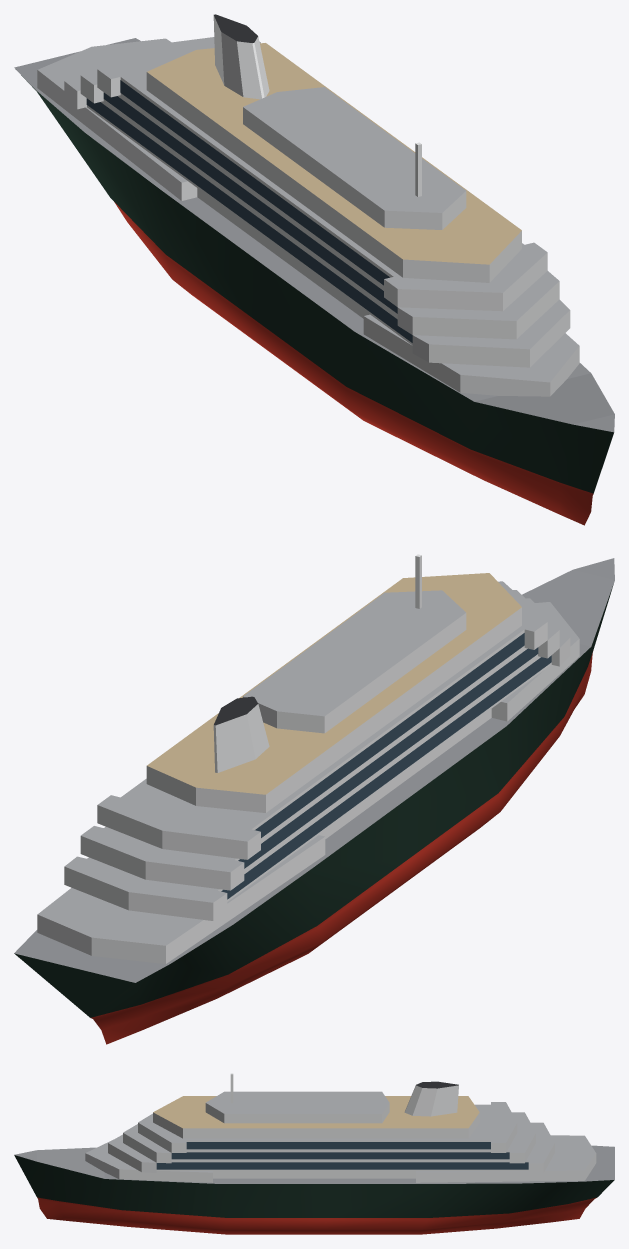
File: 306_far.fbx
3 views of the same model, one above another, from view 1: azimuth 30°, elevation 25°; view 2: azimuth 150°, elevation 25°; view 3: azimuth 270°, elevation 25° (orthographic). The views are drawn at different scales.
Parts seen in each view (by area): view 1: 306_far; view 2: 306_far; view 3: 306_far.
Boxes of the visible parts, x1=… form: 306_far: x1=14, y1=14, x2=614, y2=525; 306_far: x1=14, y1=554, x2=614, y2=1044; 306_far: x1=14, y1=1073, x2=614, y2=1234.
Bounding box in the file's own units: 26 × 42.6 × 160.
